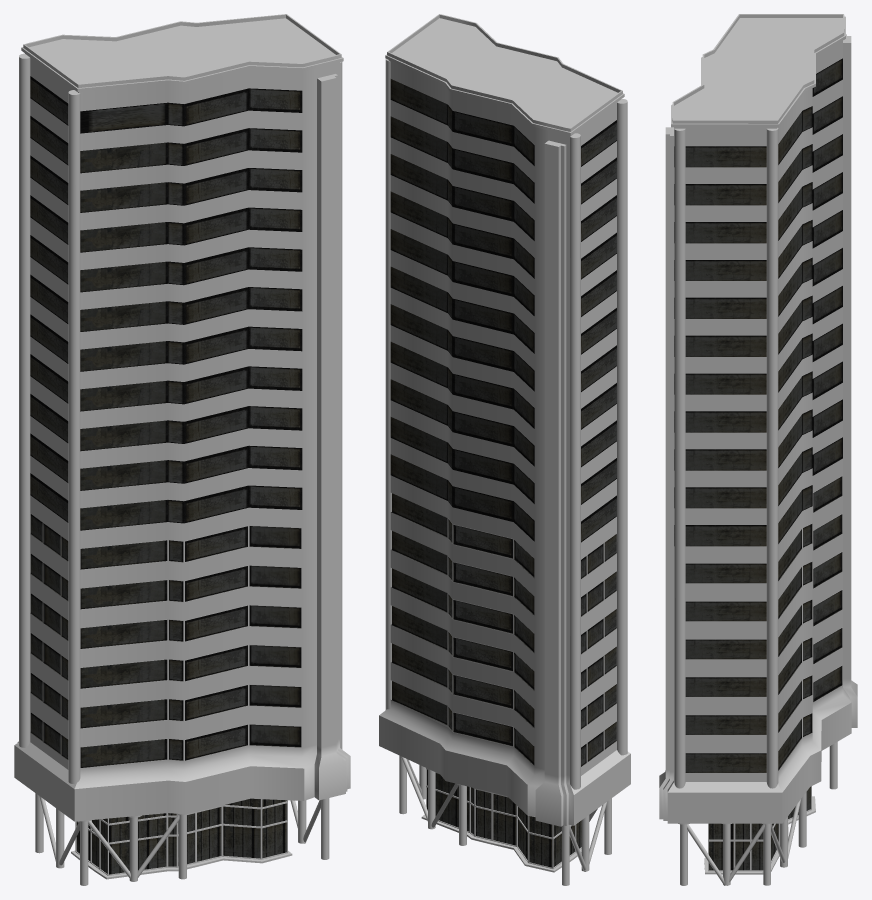
The model's file is SM_Building_04.FBX.
3 renders of one model, left to right at view 1: azimuth 30°, elevation 25°; view 2: azimuth 150°, elevation 25°; view 3: azimuth 270°, elevation 25°, orthographic. The views are drawn at different scales.
Visible parts, largest first — view 1: SM_Building_04_LOD0; view 2: SM_Building_04_LOD0; view 3: SM_Building_04_LOD0.
Part boxes in pixels (<box>): SM_Building_04_LOD0: <box>14,14,350,885</box>; SM_Building_04_LOD0: <box>379,14,630,885</box>; SM_Building_04_LOD0: <box>659,14,857,885</box>.
Size of what is drawn, in the model's own units: 31.99 by 102 by 23.84.
